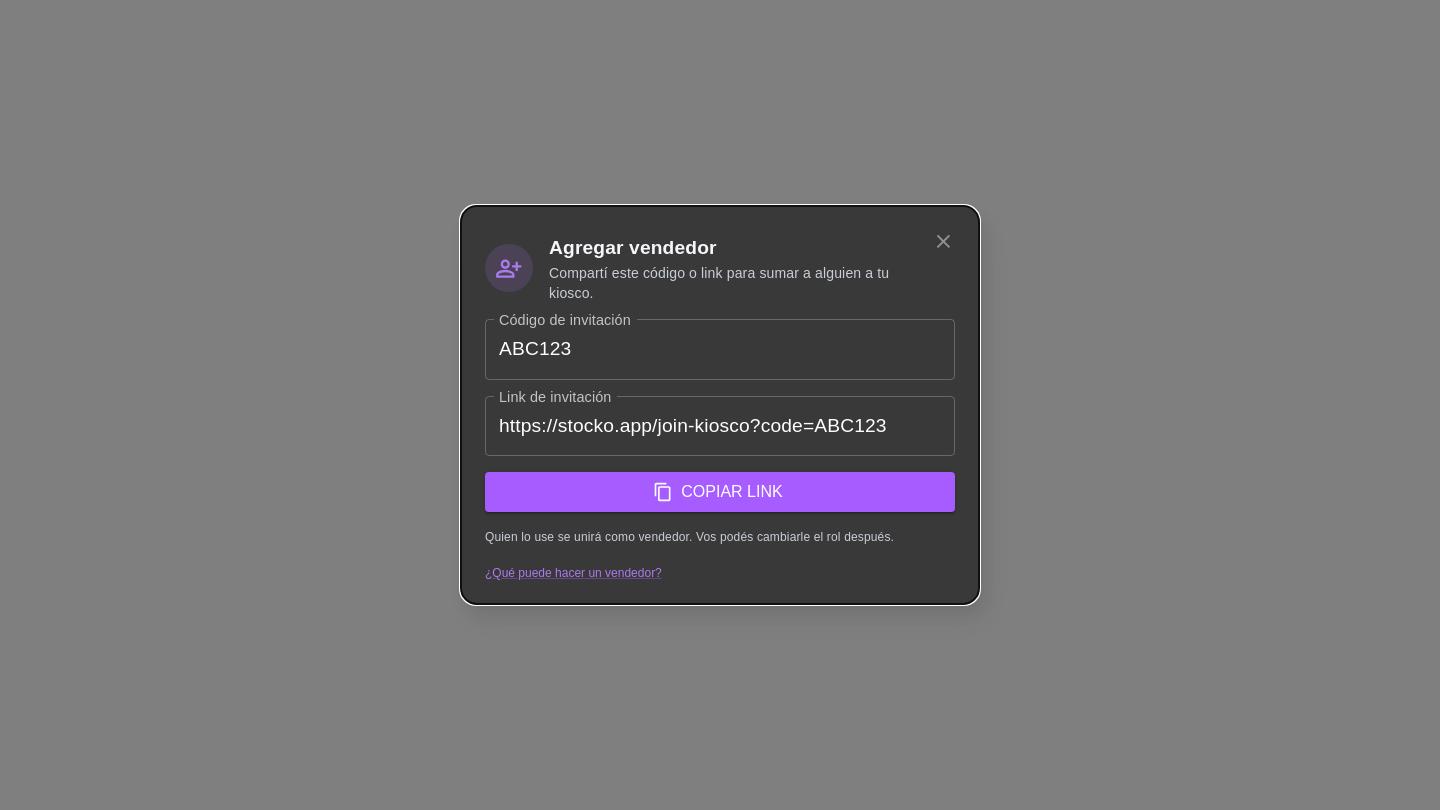
it: InviteSellerModal › abre el diálogo de roles y permisos al hacer click en el link informativo
Expected: the text "Roles y permisos" is not shown
Click the button "¿Qué puede hacer un vendedor?" at point(573, 574), box [485, 564, 662, 584]
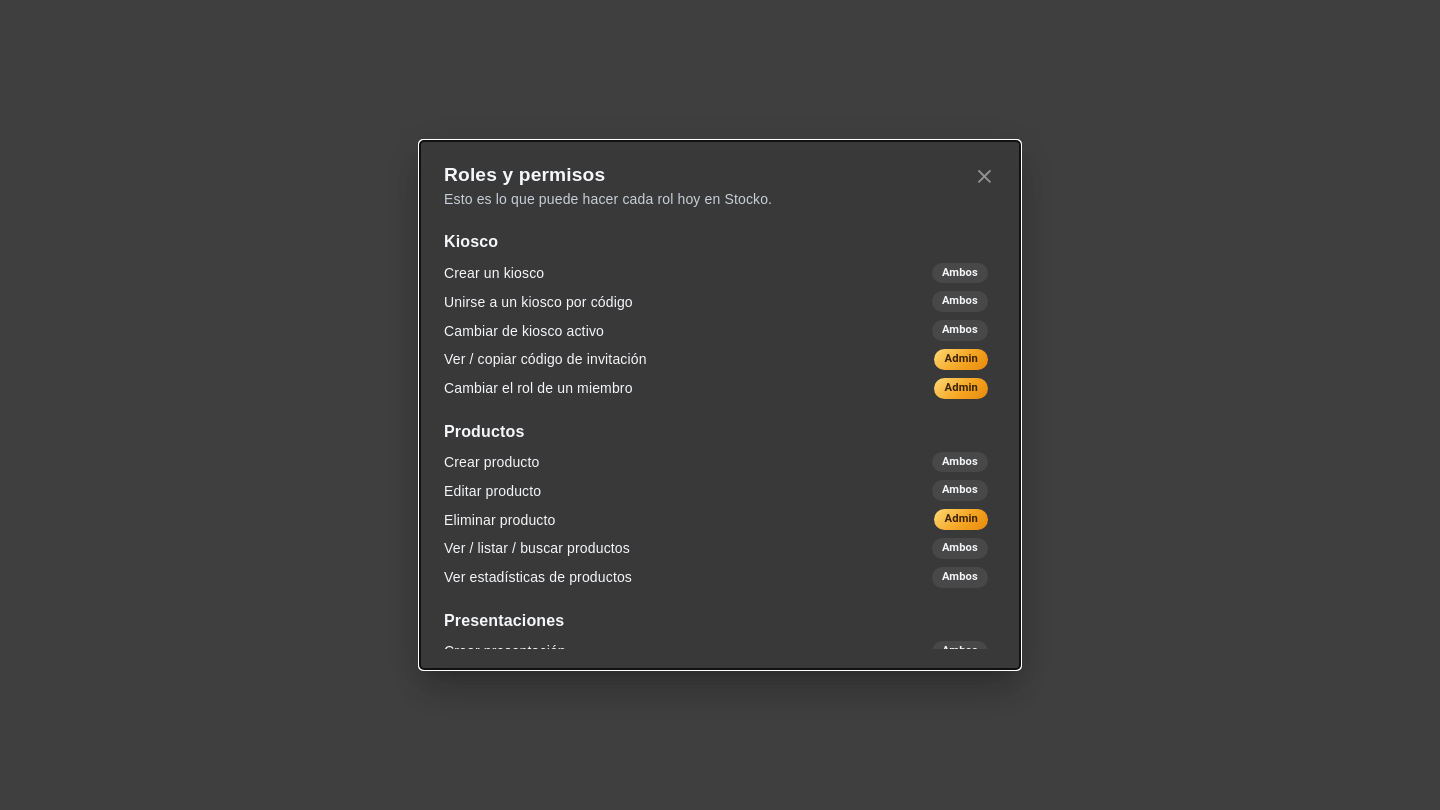
Expected: the text "Roles y permisos" is shown, [444, 164, 605, 185]
